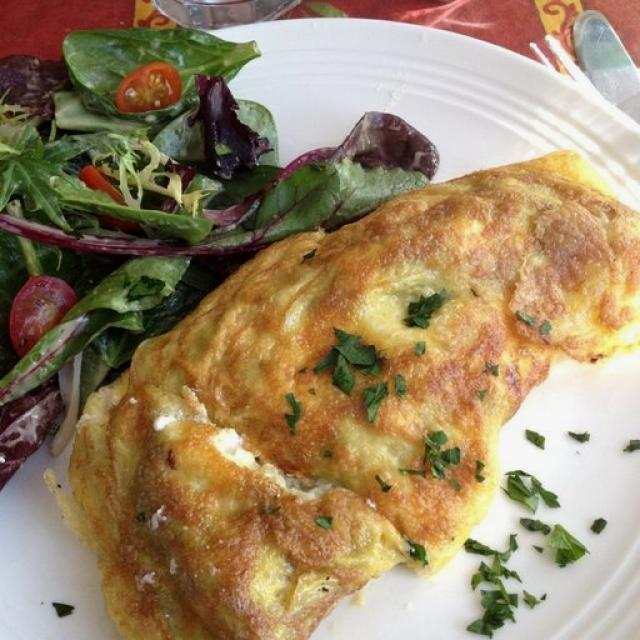omelette: (66, 150, 640, 635)
